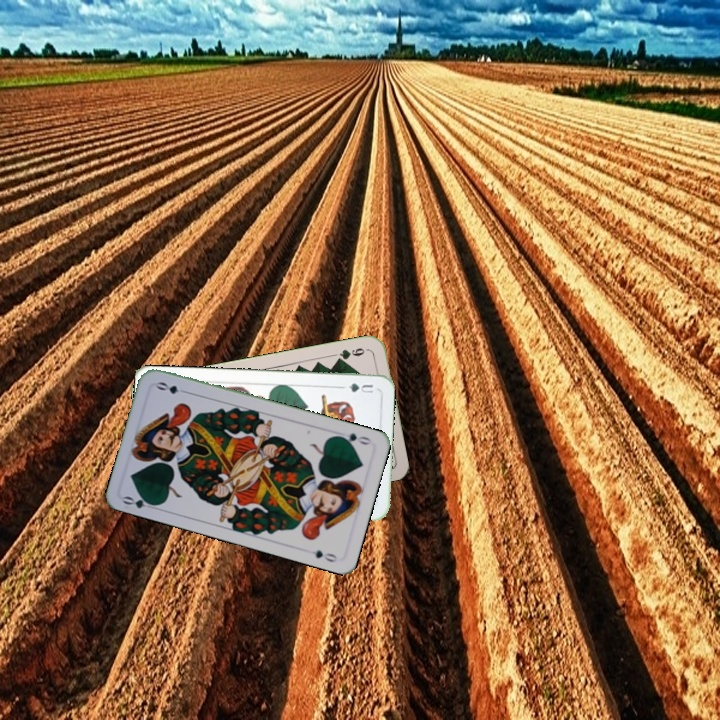G9: (332, 344, 371, 364)
GO: (119, 491, 160, 512), (334, 429, 373, 447)
GU: (344, 379, 376, 396)
